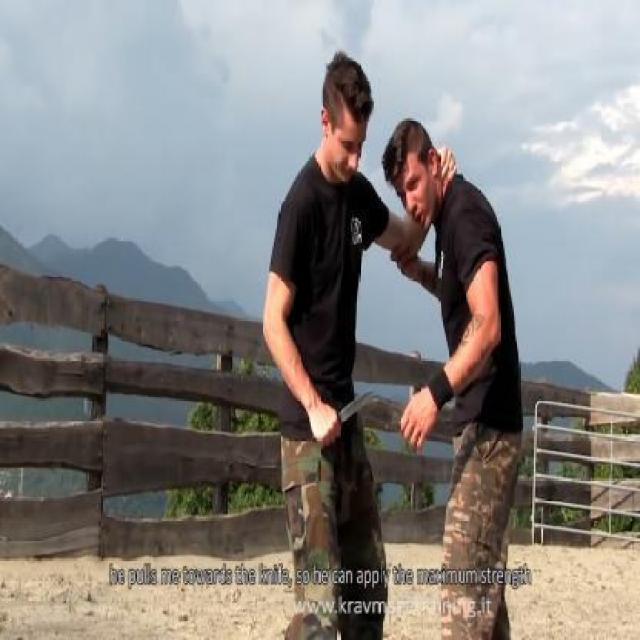-: (311, 382, 377, 451)
